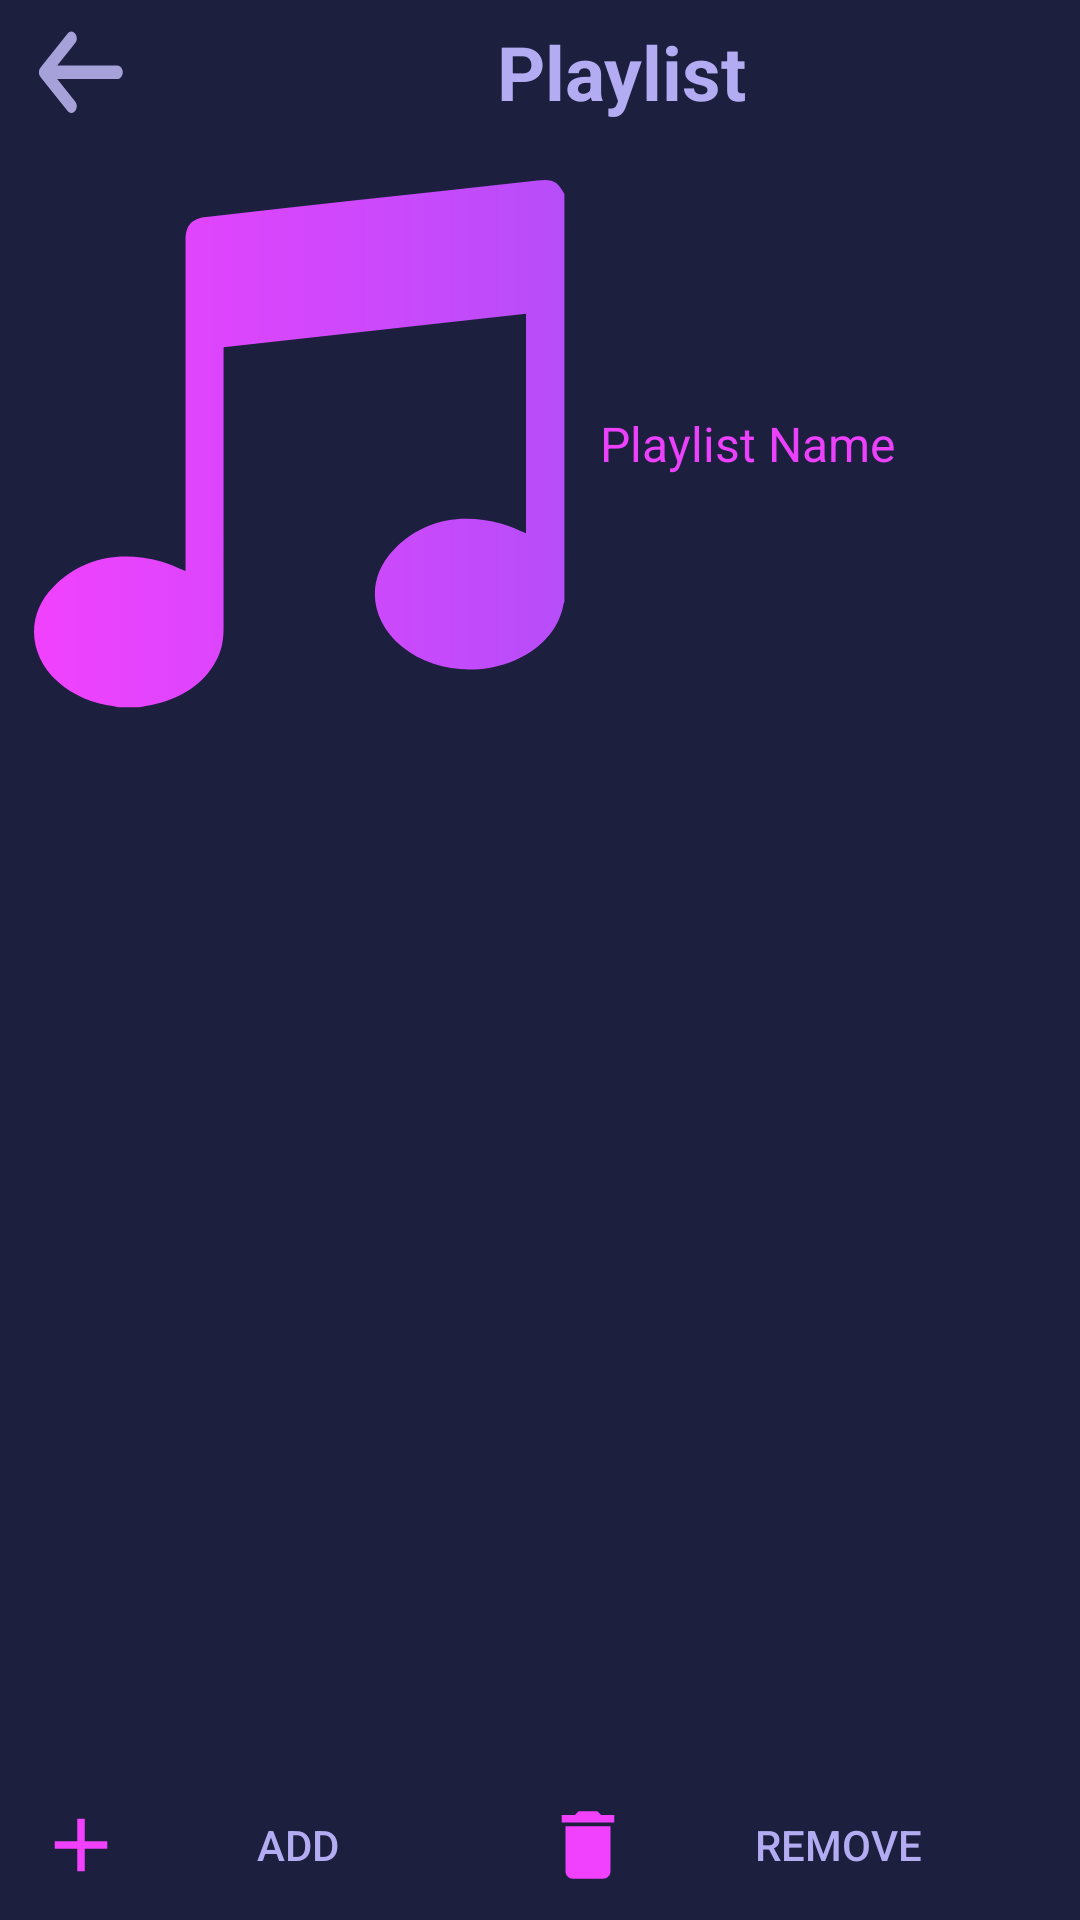

Named icons in this screenshot (1080 x 1920) and their centers, (x=x, y=y):
back: (x=81, y=72)
